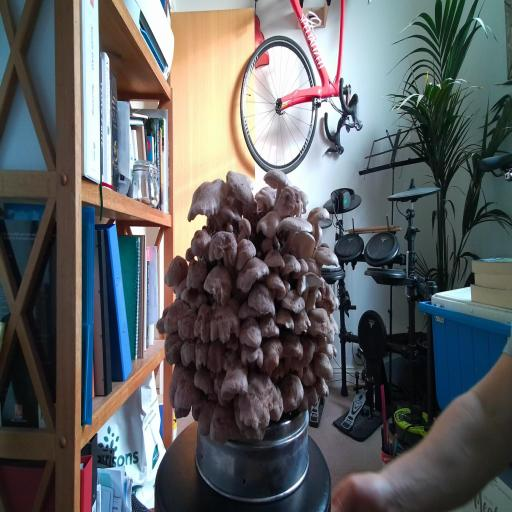Shiitake Mushroom: (229, 359, 284, 442), (156, 364, 213, 425), (211, 352, 260, 418), (224, 247, 279, 299), (180, 175, 236, 221), (197, 254, 241, 312), (153, 248, 199, 295), (155, 289, 194, 342), (307, 312, 347, 357), (223, 231, 265, 272), (259, 157, 295, 204), (219, 168, 261, 206), (276, 367, 308, 416), (208, 401, 241, 446), (246, 277, 279, 319), (209, 303, 241, 345), (290, 332, 318, 378), (163, 358, 188, 409), (312, 279, 343, 320), (208, 228, 238, 266), (194, 394, 218, 440), (238, 313, 265, 351), (274, 185, 304, 218), (306, 371, 335, 405), (260, 336, 284, 377), (310, 348, 337, 384), (205, 335, 227, 377), (249, 181, 282, 209), (294, 380, 321, 413), (191, 364, 217, 398), (193, 301, 213, 344), (302, 201, 335, 227), (176, 306, 199, 342), (285, 254, 315, 281), (256, 208, 282, 239), (189, 225, 212, 260), (163, 330, 185, 366), (237, 344, 267, 370), (279, 288, 308, 314), (271, 306, 301, 331), (191, 337, 211, 374), (290, 231, 316, 259), (261, 270, 290, 294), (280, 330, 304, 359), (235, 297, 265, 320), (269, 383, 286, 423), (186, 259, 207, 291), (307, 308, 330, 337), (277, 215, 314, 233), (311, 245, 342, 266), (279, 249, 302, 277), (291, 307, 312, 336), (302, 255, 327, 277), (259, 313, 280, 339), (299, 362, 318, 390), (154, 303, 169, 336), (263, 248, 287, 268), (237, 216, 252, 246), (180, 339, 196, 367), (219, 204, 242, 223), (181, 288, 199, 312), (298, 185, 311, 213), (183, 245, 196, 264)
